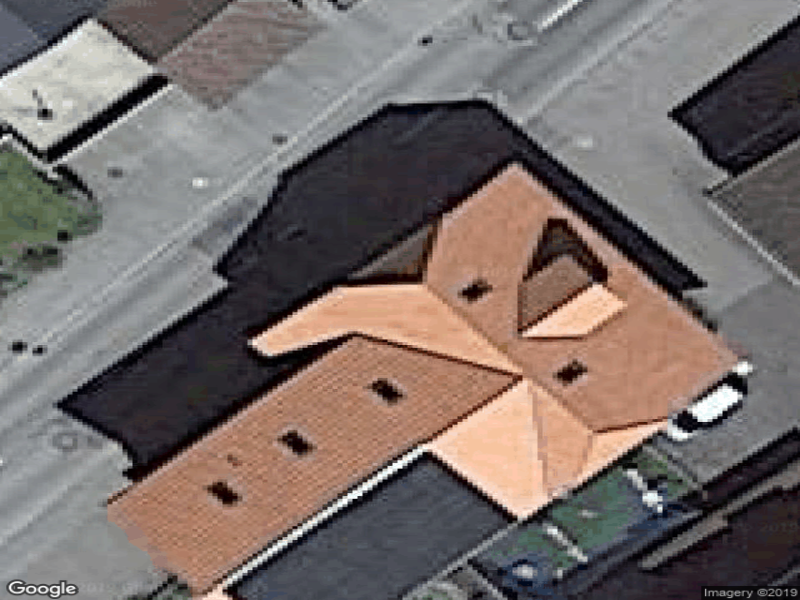pv: (225, 452, 517, 600)
